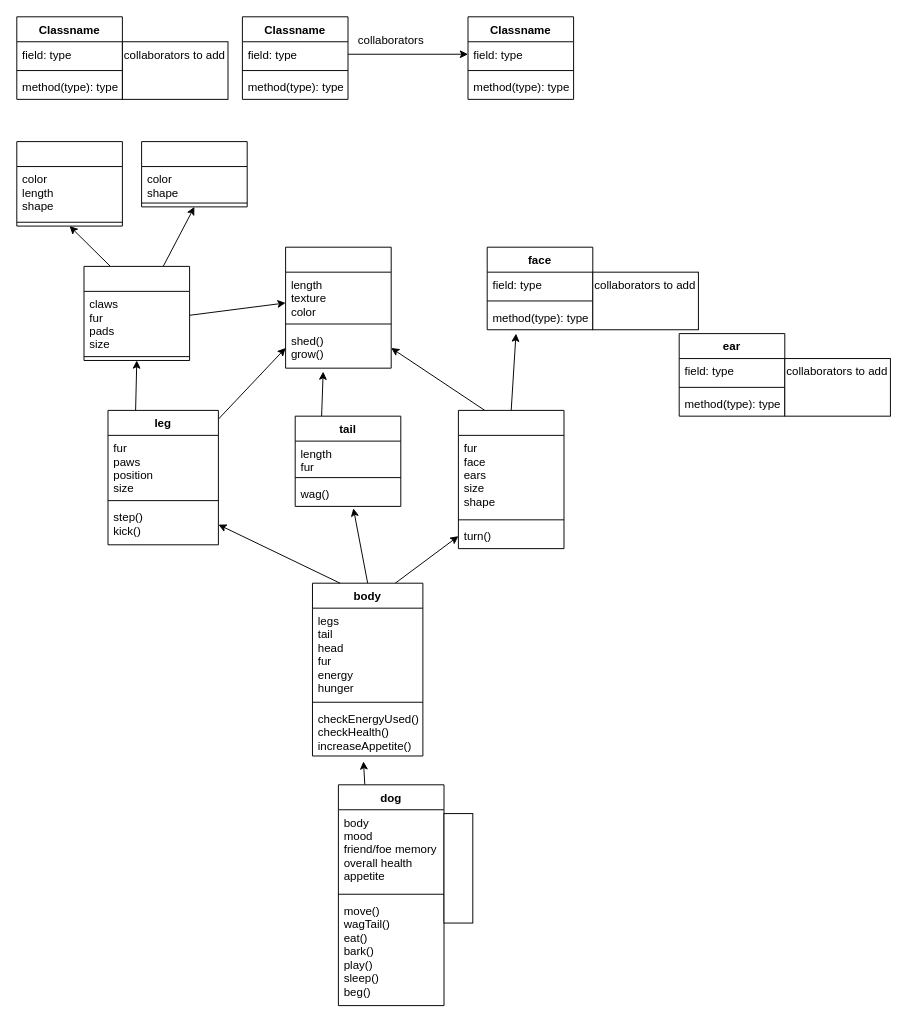
Image size: 907x1025. Some labels were removed from this diagram. The box of each missing label's shape, as (x1, y1, x2, y2) in pixels:
claw: (16, 141, 122, 226)
fur: (285, 246, 391, 368)
head: (457, 409, 564, 549)
mind: (443, 813, 473, 923)
pad: (141, 141, 247, 207)
paw: (83, 265, 190, 360)
